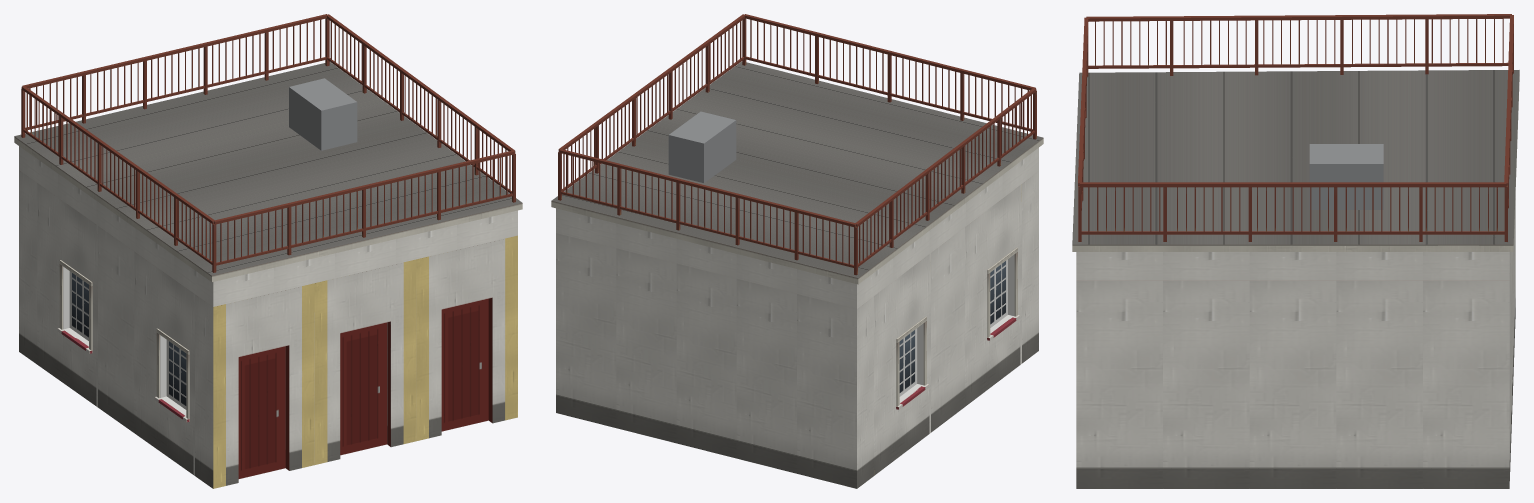
The model's file is SM_Molo_Edificio_A4A5.fbx.
The picture shows the model from 3 angles, left to right: view 1: azimuth 30°, elevation 25°; view 2: azimuth 150°, elevation 25°; view 3: azimuth 270°, elevation 25°; orthographic projection. The views are drawn at different scales.
Parts seen in each view (by area): view 1: SM_Molo_Edificio_A4A5; view 2: SM_Molo_Edificio_A4A5; view 3: SM_Molo_Edificio_A4A5.
Part boxes in pixels (bbox=[...]): SM_Molo_Edificio_A4A5: bbox=[14, 14, 522, 488]; SM_Molo_Edificio_A4A5: bbox=[551, 14, 1043, 488]; SM_Molo_Edificio_A4A5: bbox=[1072, 14, 1519, 488].
Size of what is drawn, in the model's own units: 612 by 662 by 497.
1 material, 1 textured.
